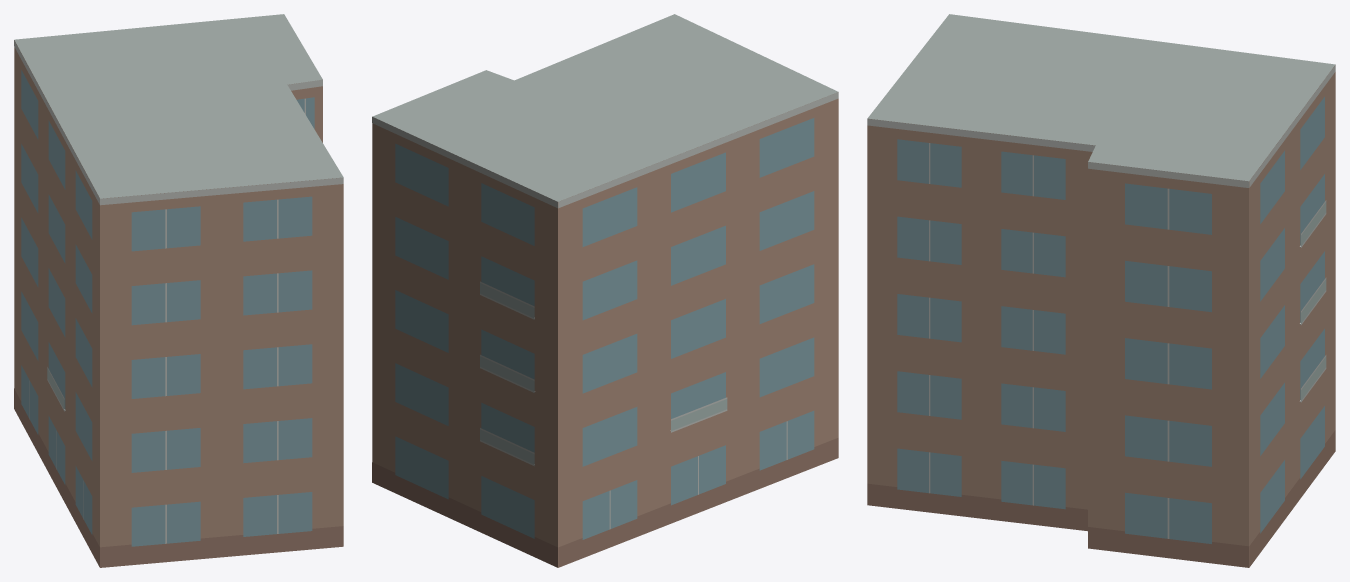
Rendered from survey-upis-32879660.glb.
The picture shows the model from 3 angles, left to right: view 1: azimuth 30°, elevation 25°; view 2: azimuth 150°, elevation 25°; view 3: azimuth 270°, elevation 25°; orthographic projection. The views are drawn at different scales.
Parts seen in each view (by area): view 1: survey-upis-32879660.tmp; view 2: survey-upis-32879660.tmp; view 3: survey-upis-32879660.tmp.
Boxes of the visible parts, x1,y1,x2,y2 form: survey-upis-32879660.tmp: [14, 14, 343, 567]; survey-upis-32879660.tmp: [372, 14, 838, 567]; survey-upis-32879660.tmp: [867, 14, 1335, 567].
Size of the model in its own units: 12.72 by 13.7 by 15.05.
